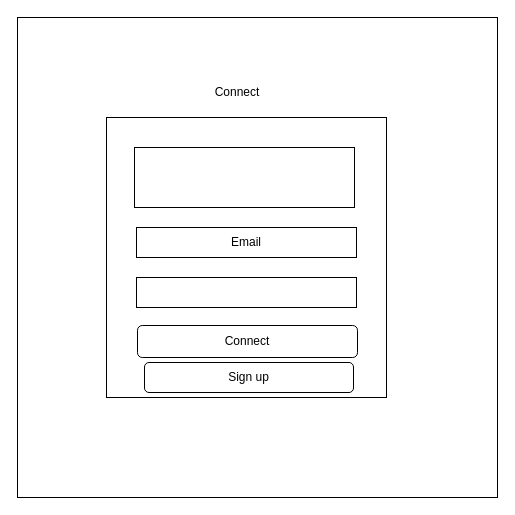
Some shapes in this 515 by 515 pixel diagram are drawn without their labels. Here are the shapes that lost their labels. From the top down, the box of each, then its label:
(134, 146, 354, 208): texte
(136, 276, 356, 308): Password
